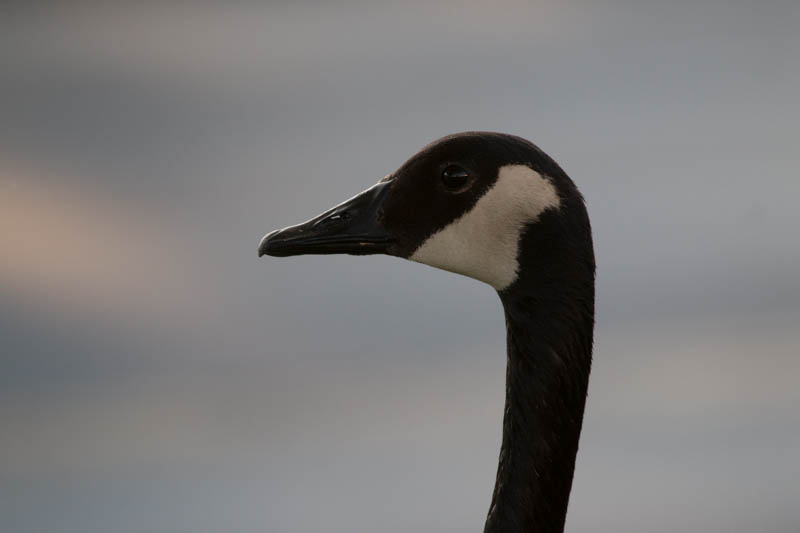goose-head: (255, 130, 596, 294)
